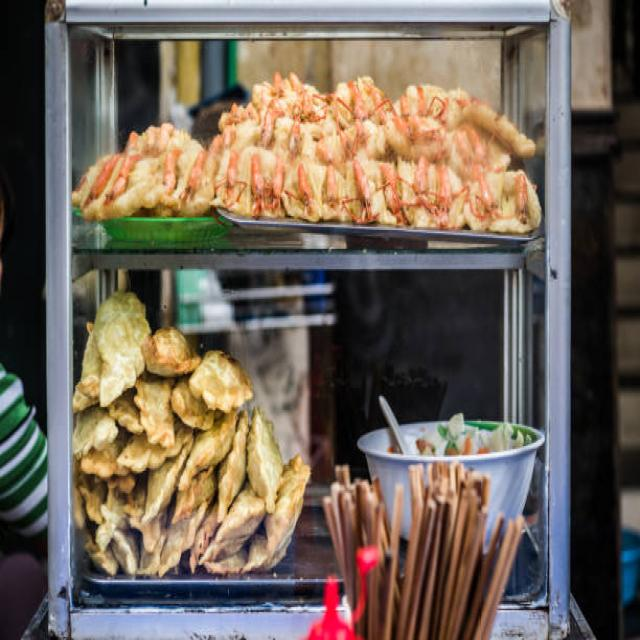Emperan: (36, 0, 582, 640)
